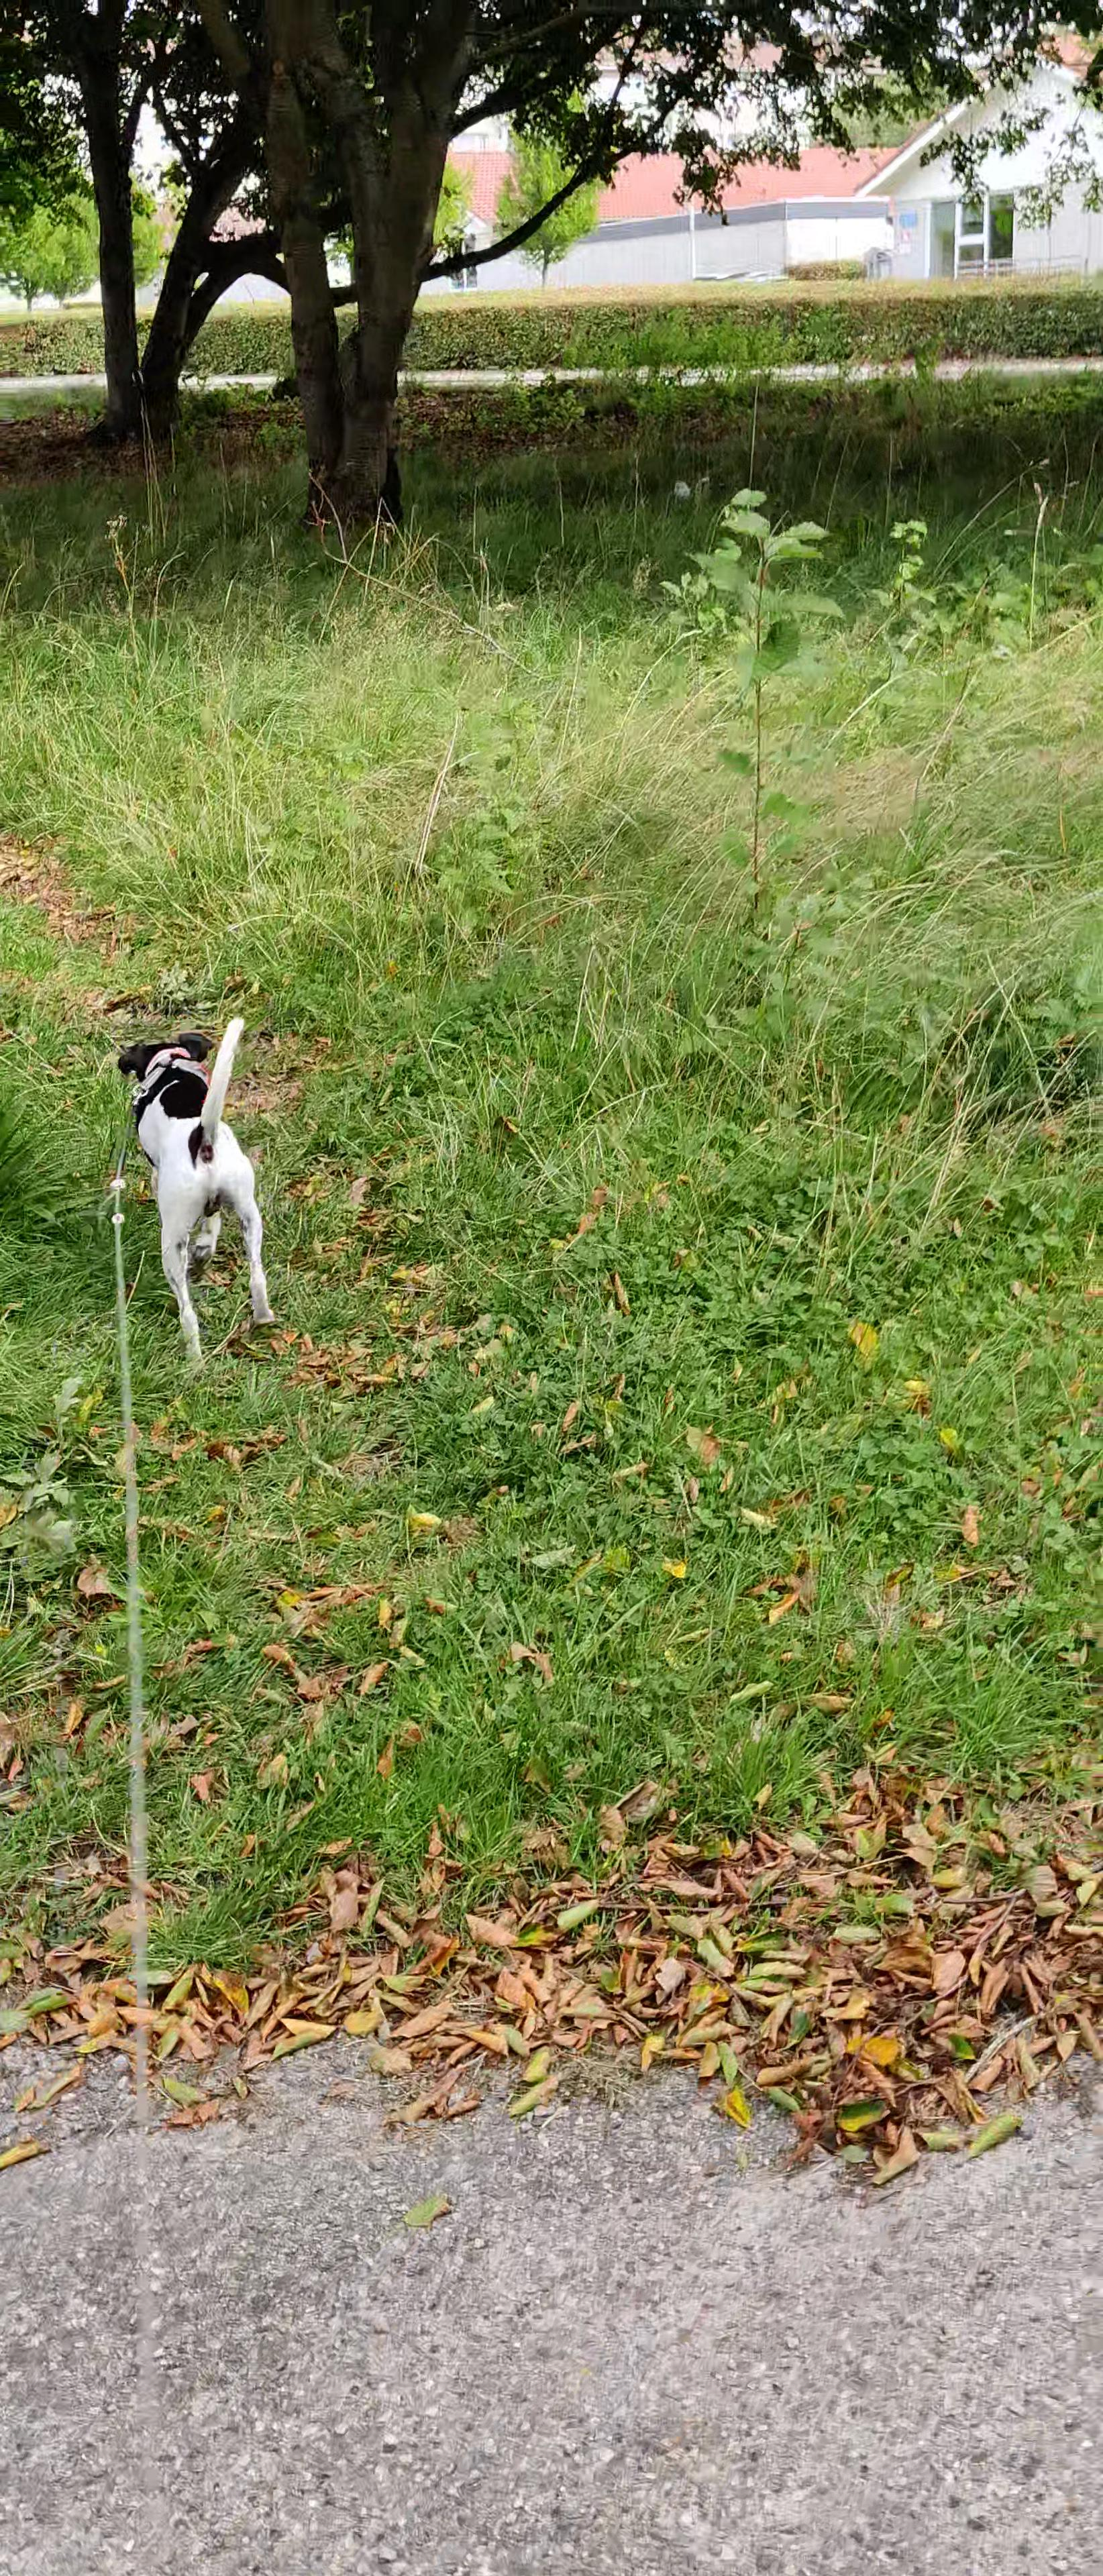Dog: (110, 1002, 302, 1375)
